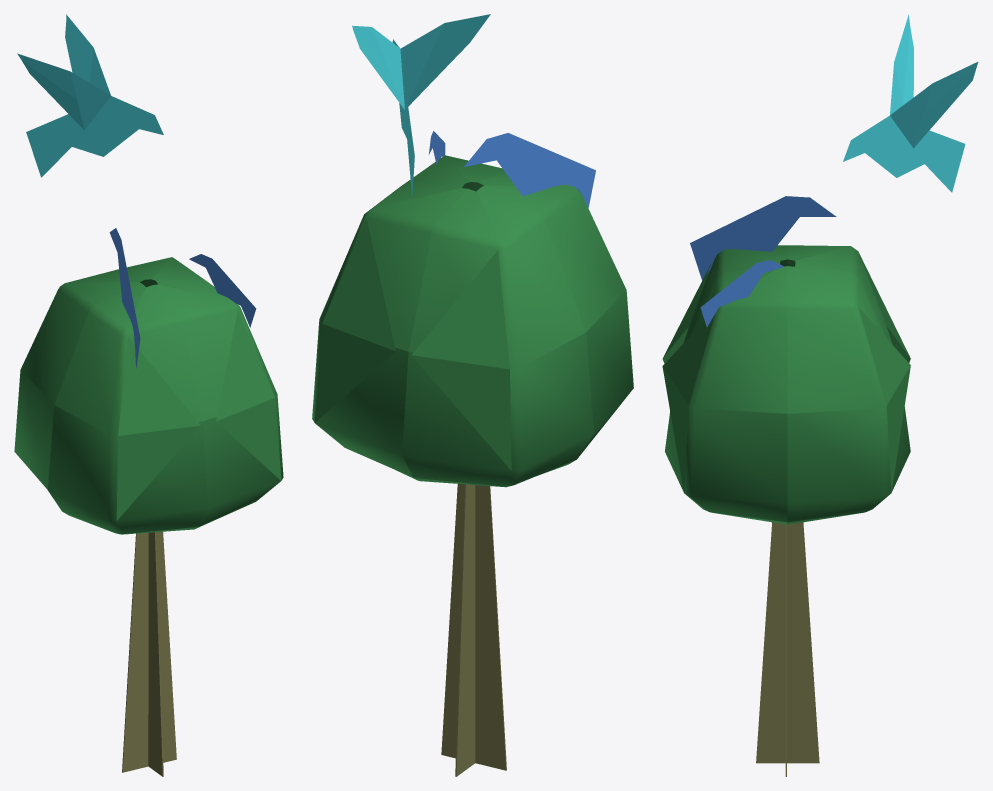
Rendered from TreeSquare_Medium_BIRD.fbx.
3 renders of one model, left to right at view 1: azimuth 30°, elevation 25°; view 2: azimuth 150°, elevation 25°; view 3: azimuth 270°, elevation 25°, orthographic. The views are drawn at different scales.
Parts seen in each view (by area): view 1: TREE_MEDIUM_SQUARE_BIRD; view 2: TREE_MEDIUM_SQUARE_BIRD; view 3: TREE_MEDIUM_SQUARE_BIRD.
Part boxes in pixels (left/top/right/bottom): TREE_MEDIUM_SQUARE_BIRD: left=14, top=14, right=283, bottom=776; TREE_MEDIUM_SQUARE_BIRD: left=312, top=14, right=633, bottom=776; TREE_MEDIUM_SQUARE_BIRD: left=662, top=14, right=978, bottom=776.
Size of the model in its own units: 451 by 1461 by 588.
